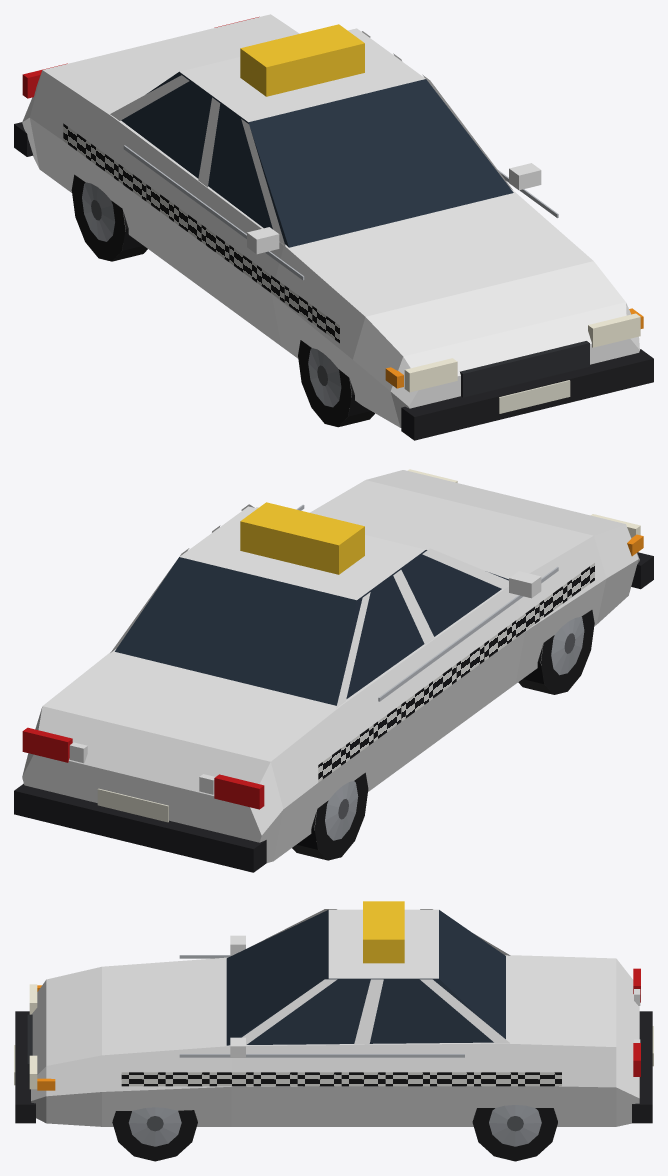
Rendered from taxi.glb.
3 renders of one model, top to bottom at view 1: azimuth 30°, elevation 25°; view 2: azimuth 150°, elevation 25°; view 3: azimuth 270°, elevation 25°, orthographic. The views are drawn at different scales.
Parts seen in each view (by area): view 1: Body, Wheel_RR, Wheel_FR; view 2: Body, Wheel_RR, Wheel_FR; view 3: Body, Wheel_RL, Wheel_FL.
Boxes of the visible parts, x1,y1,x2,y2 form: Body: [14, 14, 653, 440]; Wheel_RR: [71, 174, 147, 261]; Wheel_FR: [298, 340, 374, 427]; Body: [14, 469, 653, 872]; Wheel_RR: [292, 772, 368, 860]; Wheel_FR: [518, 610, 594, 694]; Body: [14, 901, 653, 1126]; Wheel_RL: [472, 1105, 557, 1161]; Wheel_FL: [112, 1107, 197, 1161].
Bounding box in the file's own units: 2.02 × 1.65 × 4.94.
4 materials, 3 textured.
